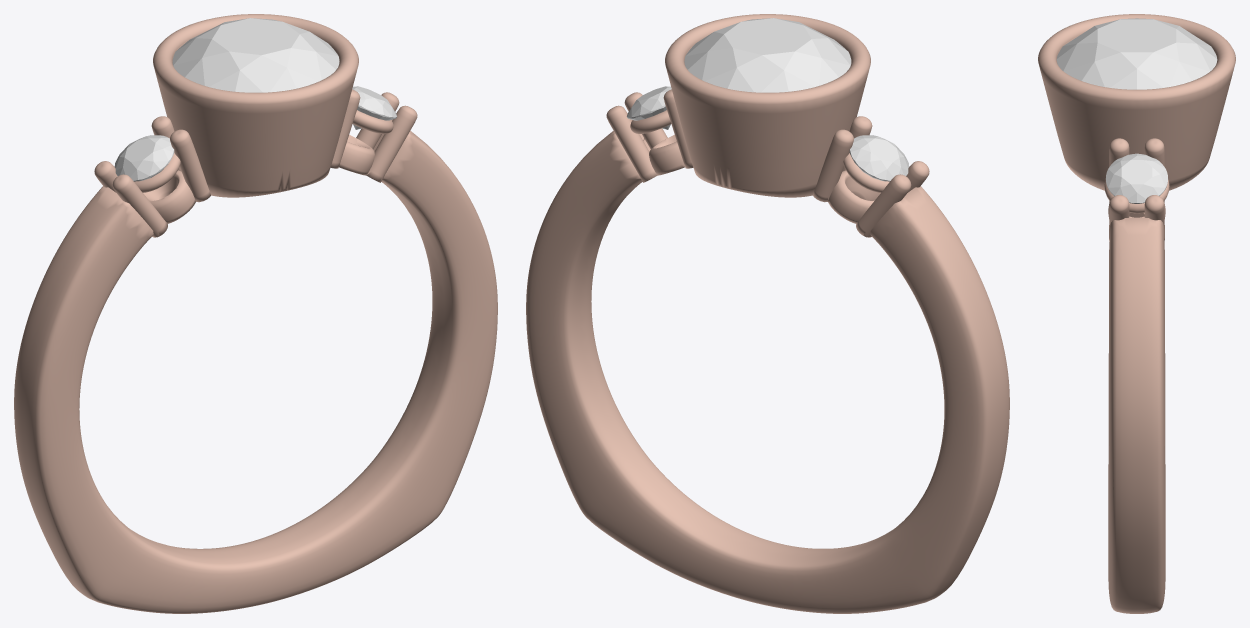
Rendered from diamond-round-rosegold-bezelset-europeanshank-2stone.glb.
3 renders of one model, left to right at view 1: azimuth 30°, elevation 25°; view 2: azimuth 150°, elevation 25°; view 3: azimuth 270°, elevation 25°, orthographic. The views are drawn at different scales.
Parts seen in each view (by area): view 1: metal, stone, side, side.001; view 2: metal, stone, side, side.001; view 3: metal, stone, side.001.
Boxes of the visible parts, left/top/right/bottom form: metal: left=14, top=14, right=497, bottom=613; stone: left=172, top=18, right=339, bottom=92; side: left=114, top=135, right=174, bottom=181; side.001: left=352, top=86, right=396, bottom=129; metal: left=526, top=14, right=1009, bottom=613; stone: left=684, top=18, right=851, bottom=92; side: left=849, top=135, right=909, bottom=181; side.001: left=627, top=86, right=671, bottom=129; metal: left=1038, top=14, right=1235, bottom=613; stone: left=1056, top=18, right=1217, bottom=89; side.001: left=1105, top=153, right=1168, bottom=203.
Size of the model in its own units: 20.71 by 23.81 by 7.94.
